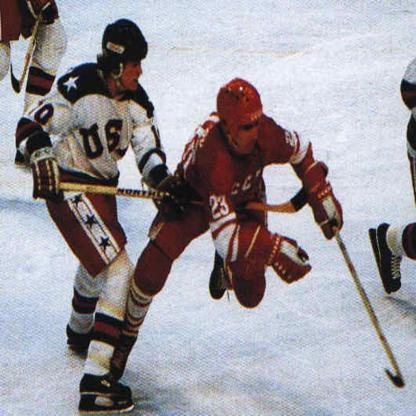face: (230, 113, 262, 156), (122, 46, 144, 93)
